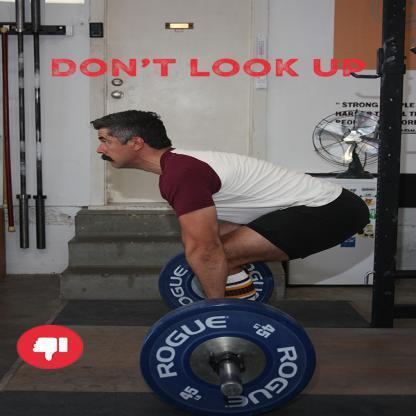barbell: (136, 243, 318, 416)
